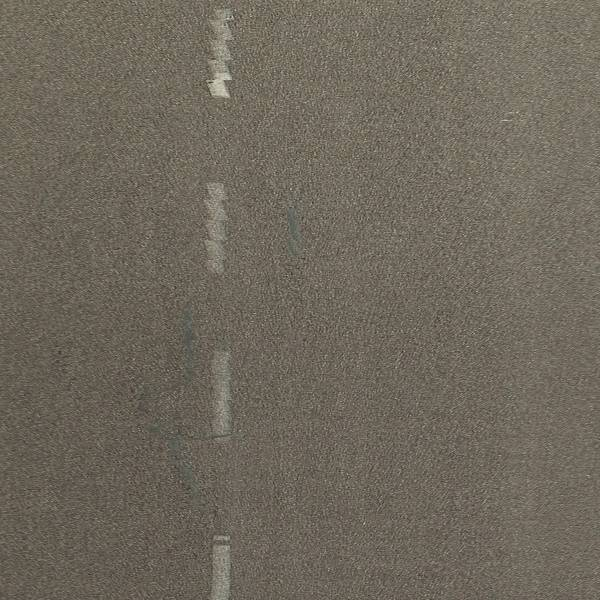road_damage: (158, 422, 208, 510), (178, 304, 203, 390)
